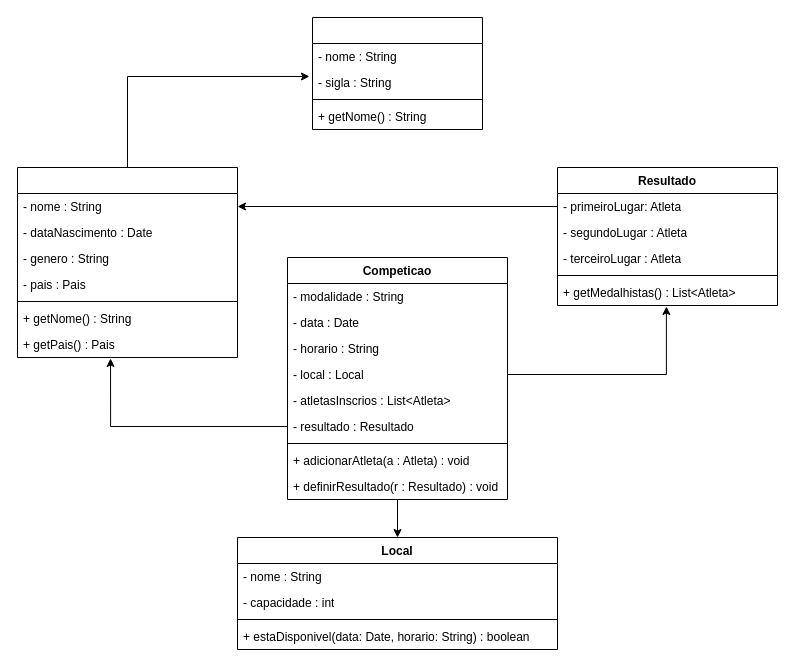
Image size: 795x670. Some labels were removed from this diagram. Here are the shapes that lost their labels. From the top down, the box of each, then its label:
(312, 16, 482, 130): País
(16, 166, 238, 358): Atleta
